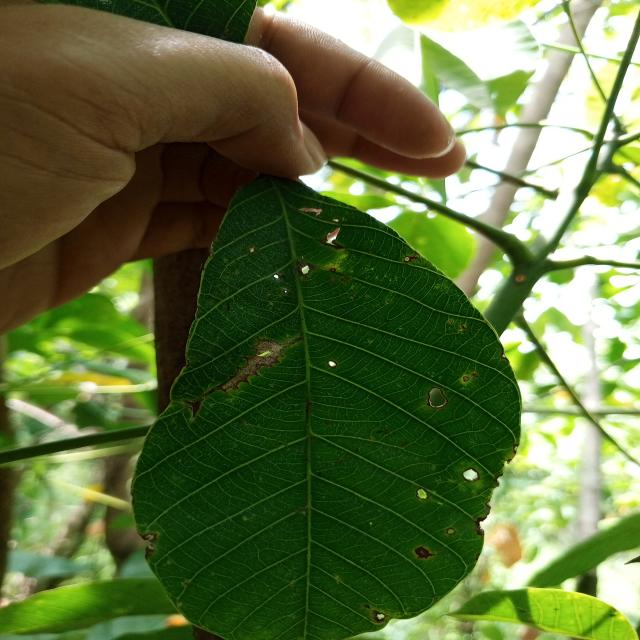Colletotrichum: (403, 256, 410, 262), (463, 376, 468, 382), (330, 268, 336, 271)
Corynespora: (207, 336, 297, 396)
